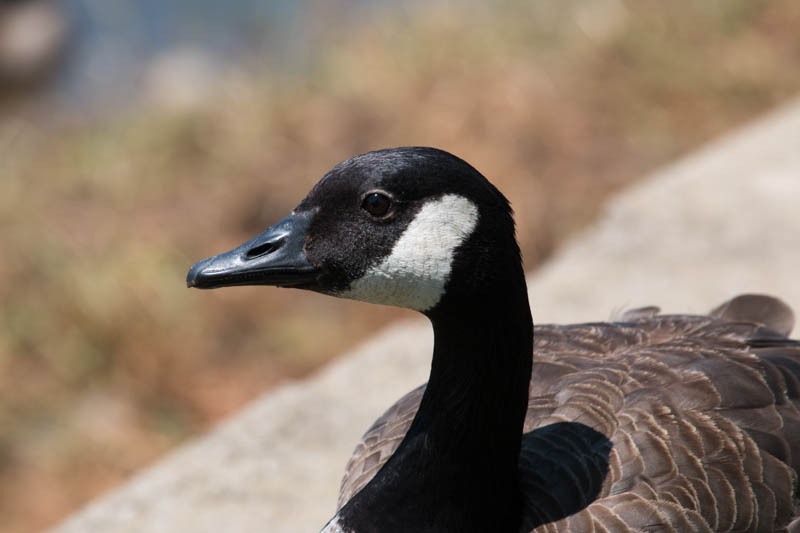goose-head: (185, 148, 514, 315)
